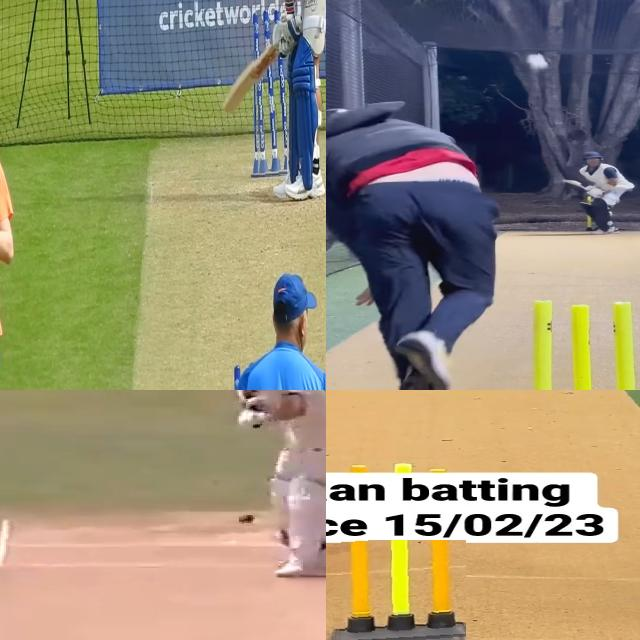Cricket ball: (517, 50, 557, 76), (236, 512, 257, 526)
Stumps: (334, 540, 465, 640), (511, 298, 640, 390), (252, 10, 287, 177)
